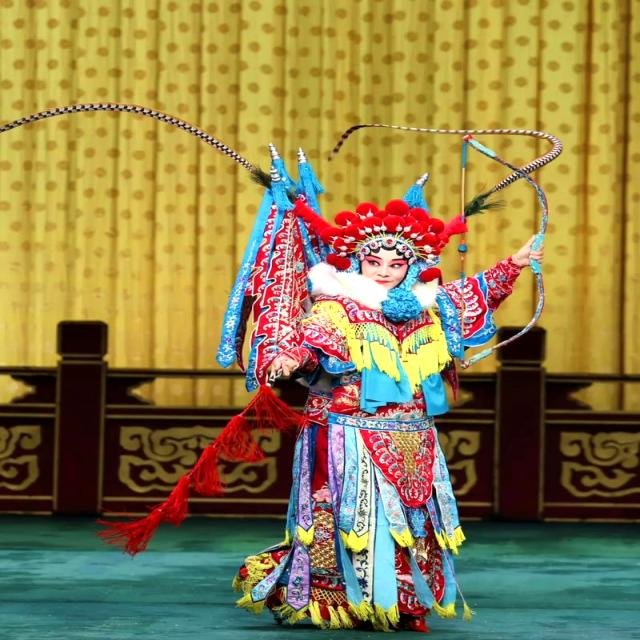Reeves-s Pheasant: (328, 124, 562, 240), (0, 103, 260, 181), (518, 261, 543, 336)
